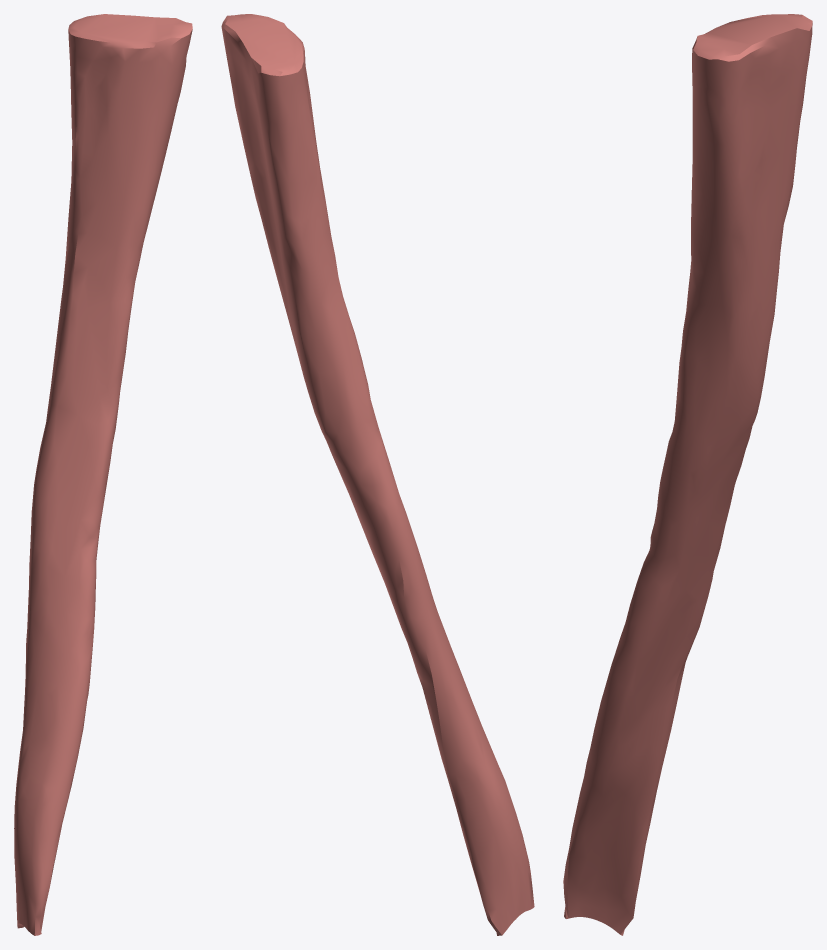
File: fma40694-f_mm2015.glb
3 views of the same model, side by side, from view 1: azimuth 30°, elevation 25°; view 2: azimuth 150°, elevation 25°; view 3: azimuth 270°, elevation 25° (orthographic). The views are drawn at different scales.
Parts seen in each view (by area): view 1: FMA40694-F_MM2015; view 2: FMA40694-F_MM2015; view 3: FMA40694-F_MM2015.
Boxes of the visible parts, x1,y1,x2,y2 form: FMA40694-F_MM2015: [14, 14, 192, 935]; FMA40694-F_MM2015: [221, 14, 534, 935]; FMA40694-F_MM2015: [563, 14, 812, 935].
Size of the model in its own units: 0.028 by 0.0999 by 0.0225.
